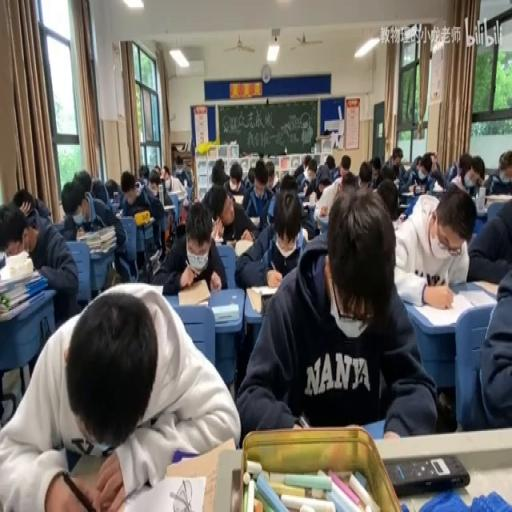calculator: (121, 471, 205, 509), (410, 286, 484, 327), (0, 264, 37, 292), (178, 276, 210, 304), (78, 224, 111, 242), (212, 301, 238, 323), (165, 180, 186, 204), (474, 279, 499, 296), (136, 282, 165, 296), (88, 244, 116, 258), (234, 238, 254, 256), (134, 213, 154, 226), (316, 214, 329, 234), (485, 193, 512, 202), (148, 249, 160, 267), (302, 196, 317, 208), (232, 193, 245, 205), (432, 181, 445, 192), (185, 184, 192, 204), (247, 215, 259, 226), (110, 199, 120, 212), (300, 224, 307, 242), (224, 239, 237, 247), (398, 202, 408, 212), (296, 191, 306, 199), (401, 189, 415, 194), (115, 209, 122, 218), (164, 204, 174, 210), (394, 178, 399, 185)
paper: (2, 282, 235, 509), (236, 186, 430, 440), (0, 198, 78, 331), (390, 185, 474, 306), (64, 173, 128, 286), (465, 179, 512, 285), (118, 168, 164, 266), (204, 182, 256, 246), (401, 148, 441, 190), (14, 188, 53, 226), (446, 152, 481, 194), (483, 152, 512, 198), (374, 178, 400, 222), (384, 145, 407, 186), (226, 161, 245, 196), (294, 156, 312, 192), (210, 158, 230, 189), (173, 154, 192, 186), (74, 168, 92, 195), (366, 155, 382, 183), (339, 170, 357, 194), (265, 159, 278, 192), (104, 176, 120, 199), (147, 169, 161, 195), (280, 172, 296, 191), (160, 166, 170, 185), (138, 164, 149, 180), (246, 166, 254, 184), (325, 155, 334, 171), (331, 165, 341, 179), (180, 203, 186, 225), (315, 182, 324, 196), (414, 155, 422, 169), (422, 156, 431, 168)
person: (386, 454, 470, 496), (261, 293, 274, 314)
